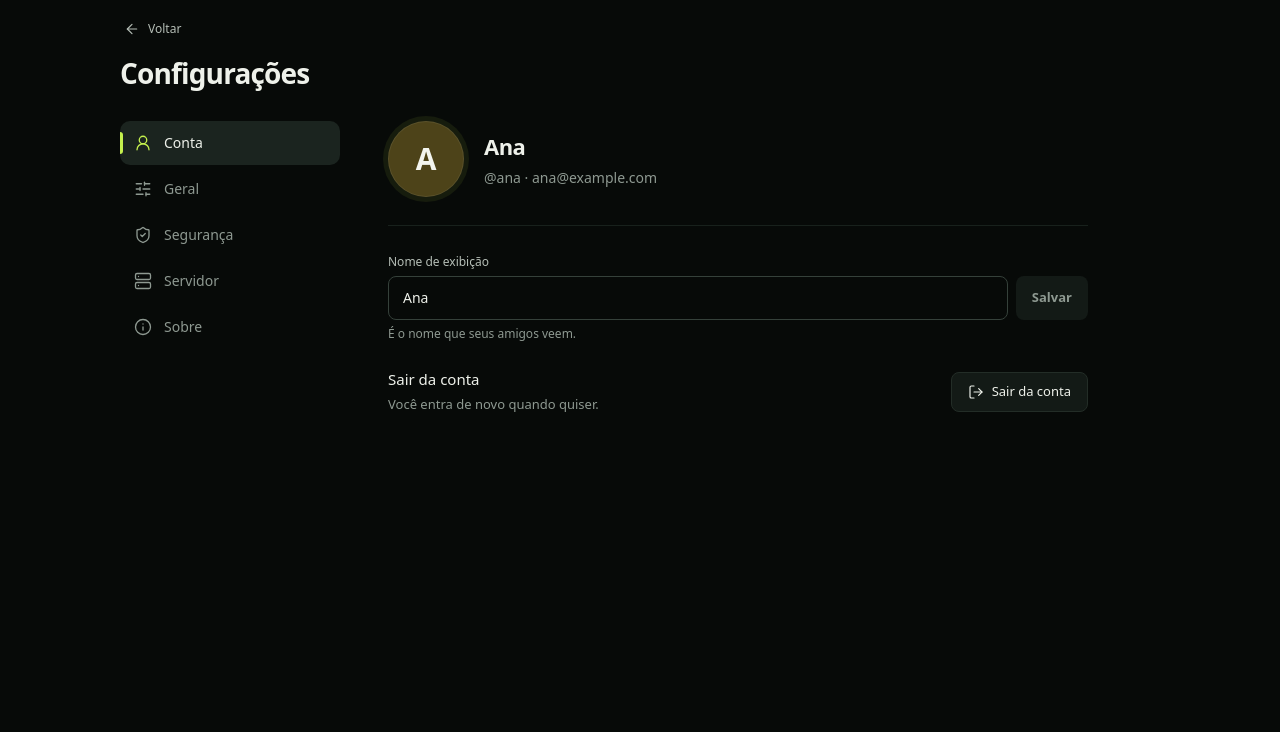
asks for the password before deleting the account and shows the server error
Click the tab "Segurança" at (230, 235), box [120, 213, 340, 257]
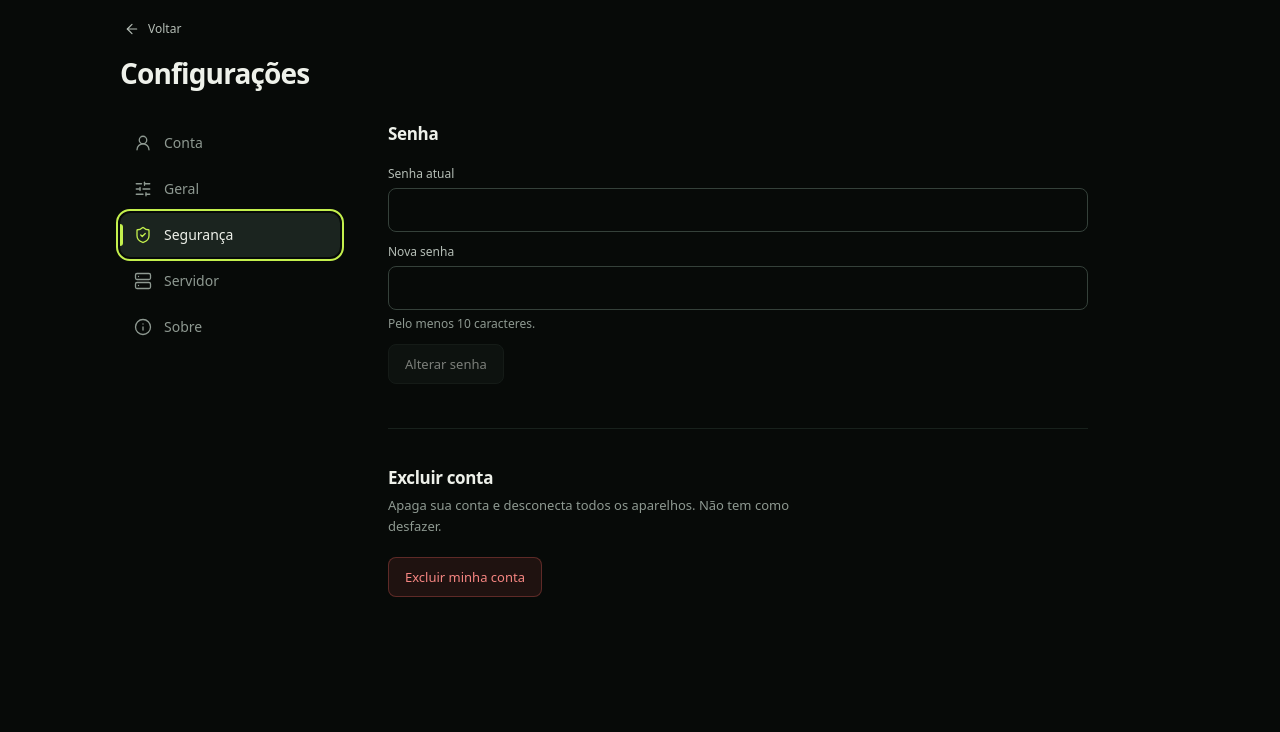
Click the button "Excluir minha conta" at (465, 577), box [388, 557, 542, 597]
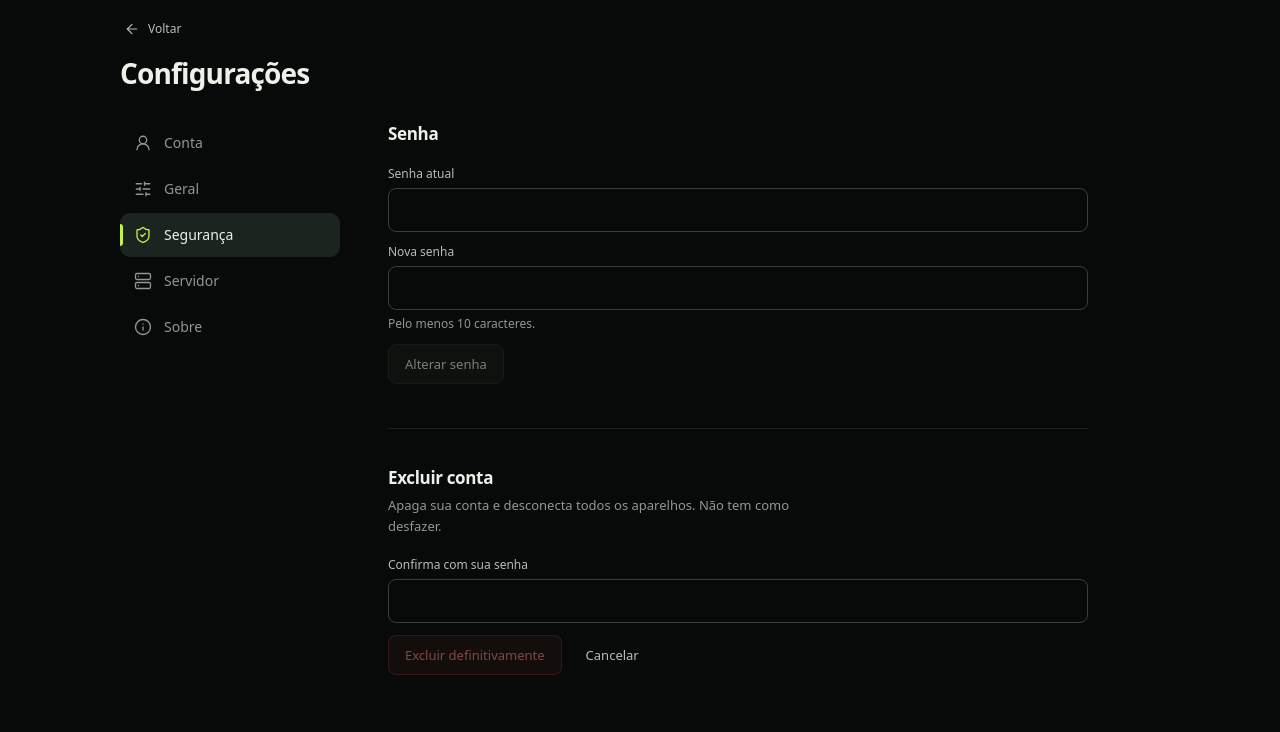
Expected: the button "Excluir definitivamente" is disabled, [388, 635, 562, 675]
Type "errada" into the password field labelled "Confirma com sua senha" at (738, 601), box [388, 579, 1088, 623]
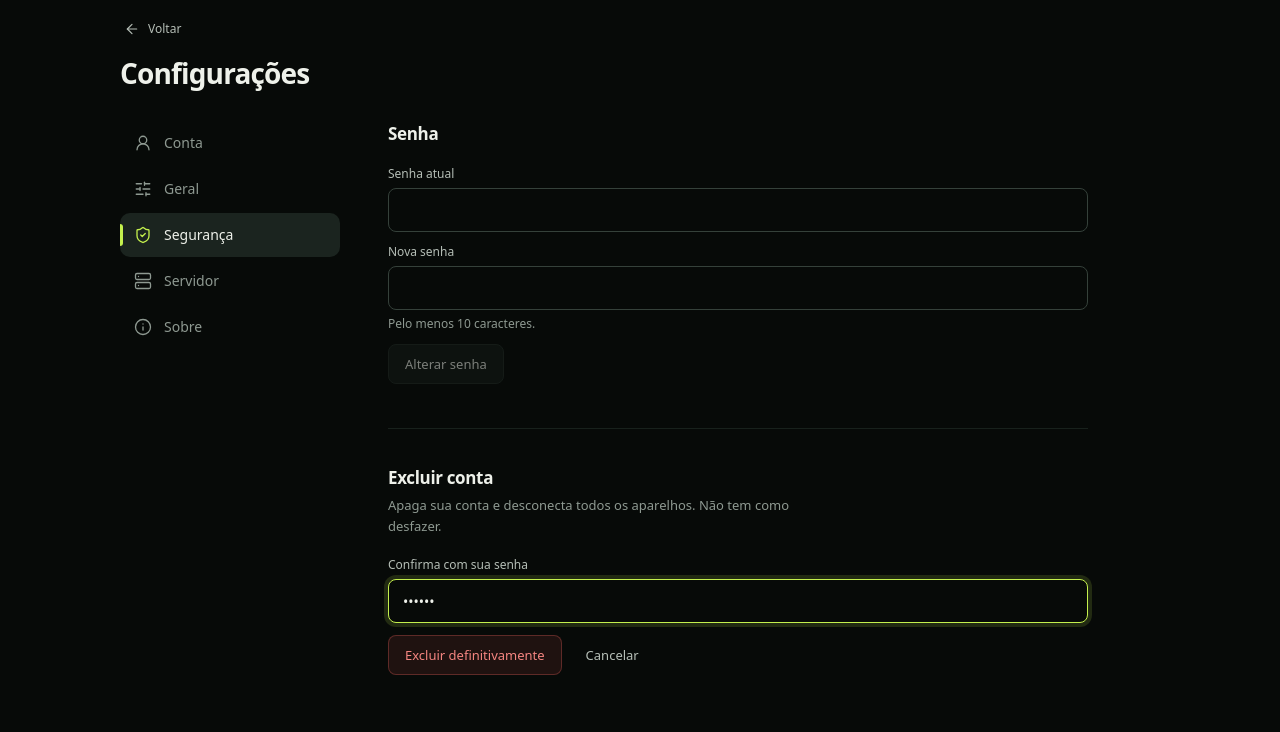
Click the button "Excluir definitivamente" at (475, 655), box [388, 635, 562, 675]
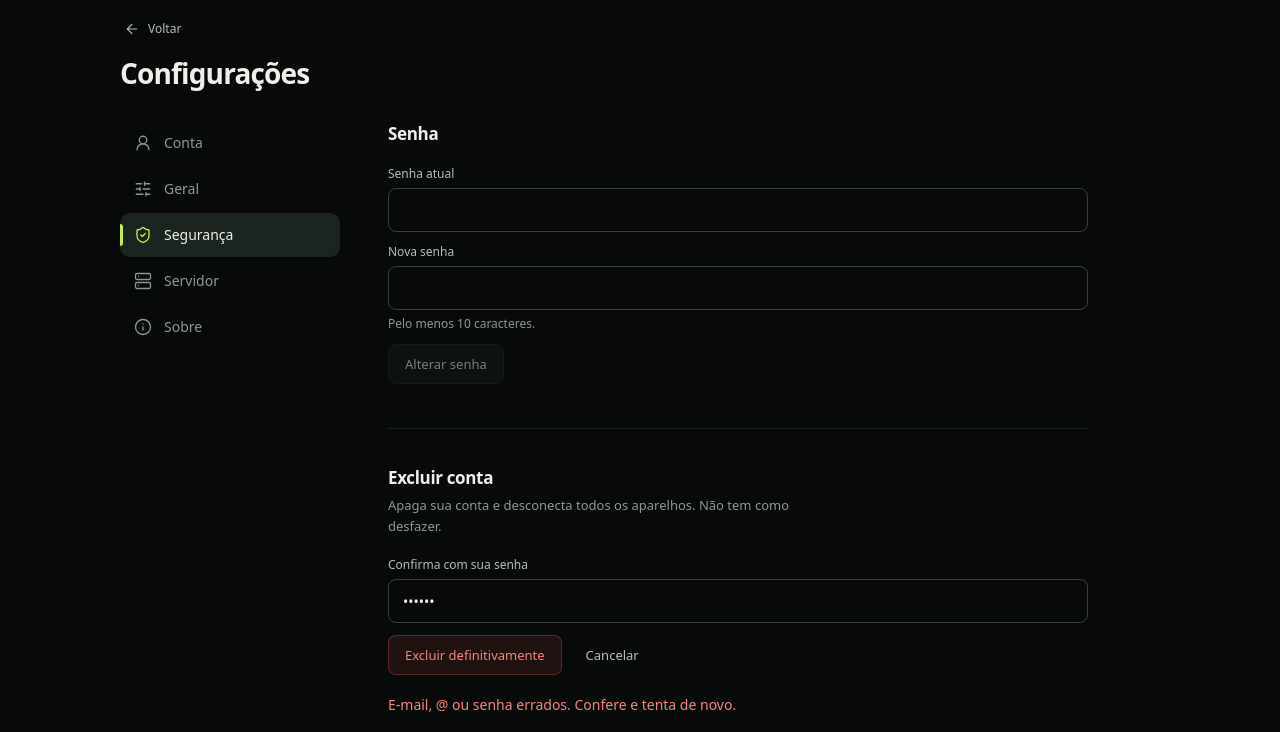
Expected: the message shows "errados", [388, 695, 736, 714]
